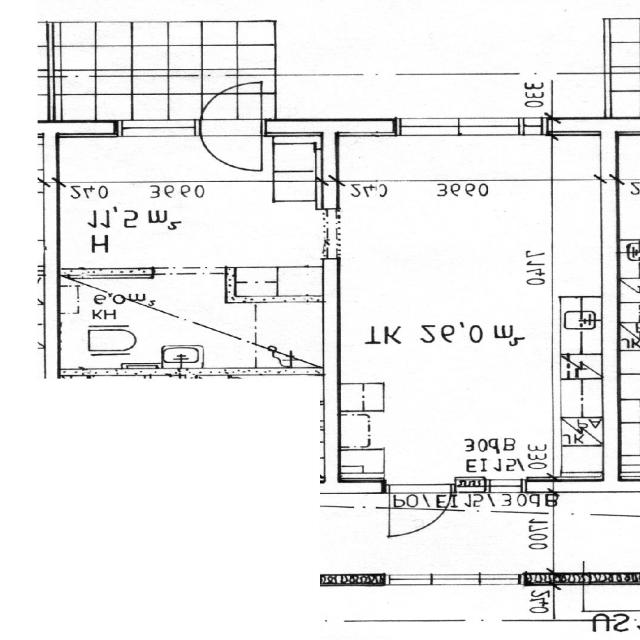door: (201, 118, 263, 176), (201, 76, 263, 134), (389, 480, 452, 535)
